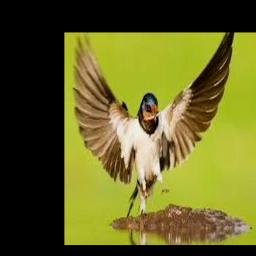Swallow: (74, 32, 235, 216)
